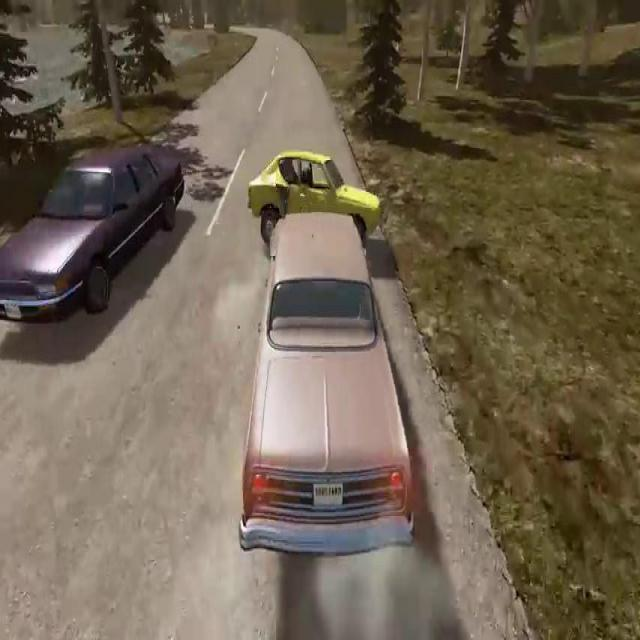moderate: (236, 133, 419, 564)
